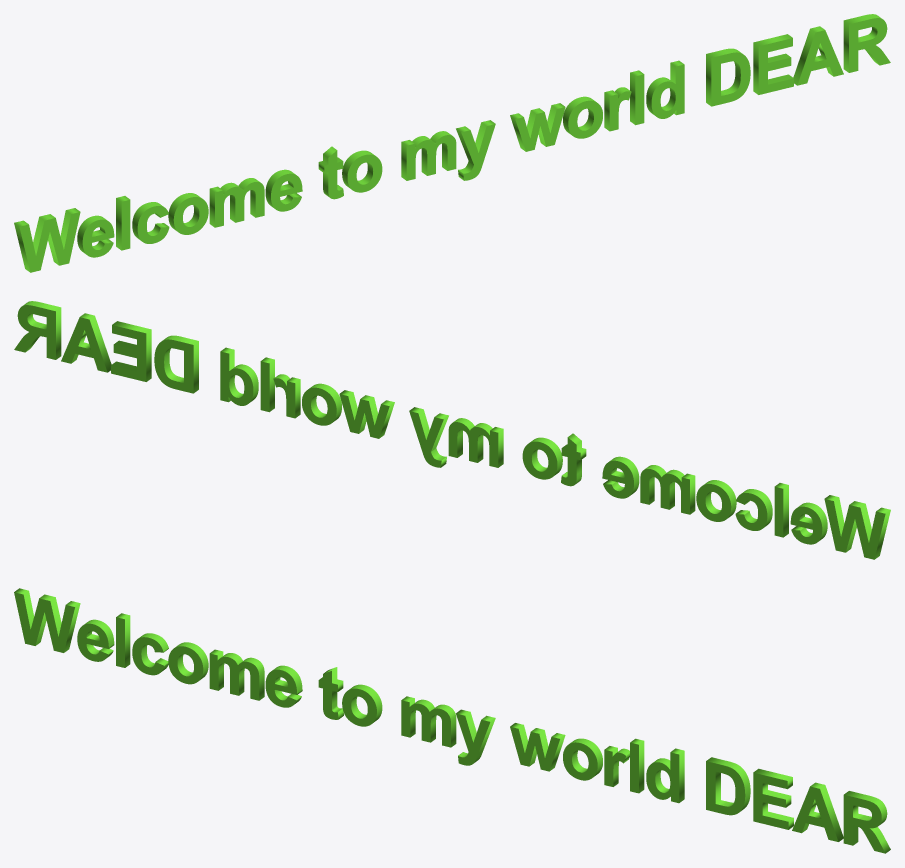
File: fool.glb
3 renders of one model, top to bottom at view 1: azimuth 30°, elevation 25°; view 2: azimuth 150°, elevation 25°; view 3: azimuth 330°, elevation 25°, orthographic.
Visible parts, largest first — view 1: Text; view 2: Text; view 3: Text.
Boxes of the visible parts, left/top/right/bottom form: Text: left=14, top=14, right=890, bottom=272; Text: left=14, top=301, right=890, bottom=559; Text: left=14, top=588, right=890, bottom=853.
Size of what is drawn, in the model's own units: 9.34 by 0.6468 by 0.1.
